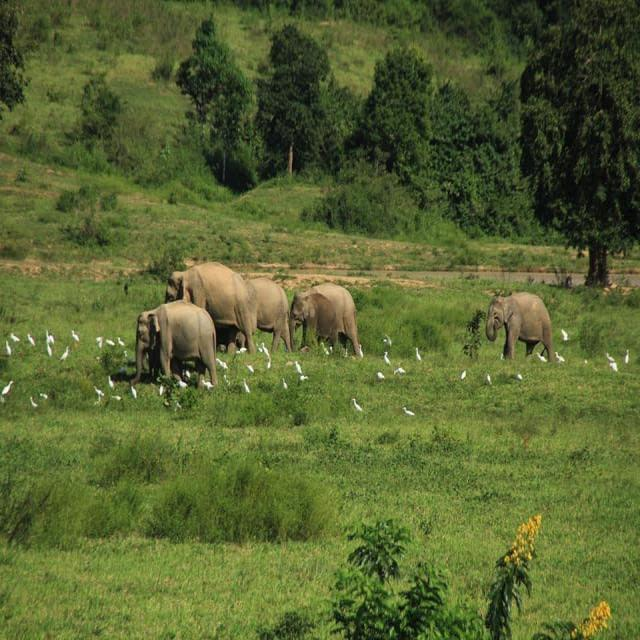Elephant: (163, 244, 256, 361), (128, 297, 225, 403), (283, 274, 367, 372), (481, 278, 554, 374), (246, 262, 290, 370)
